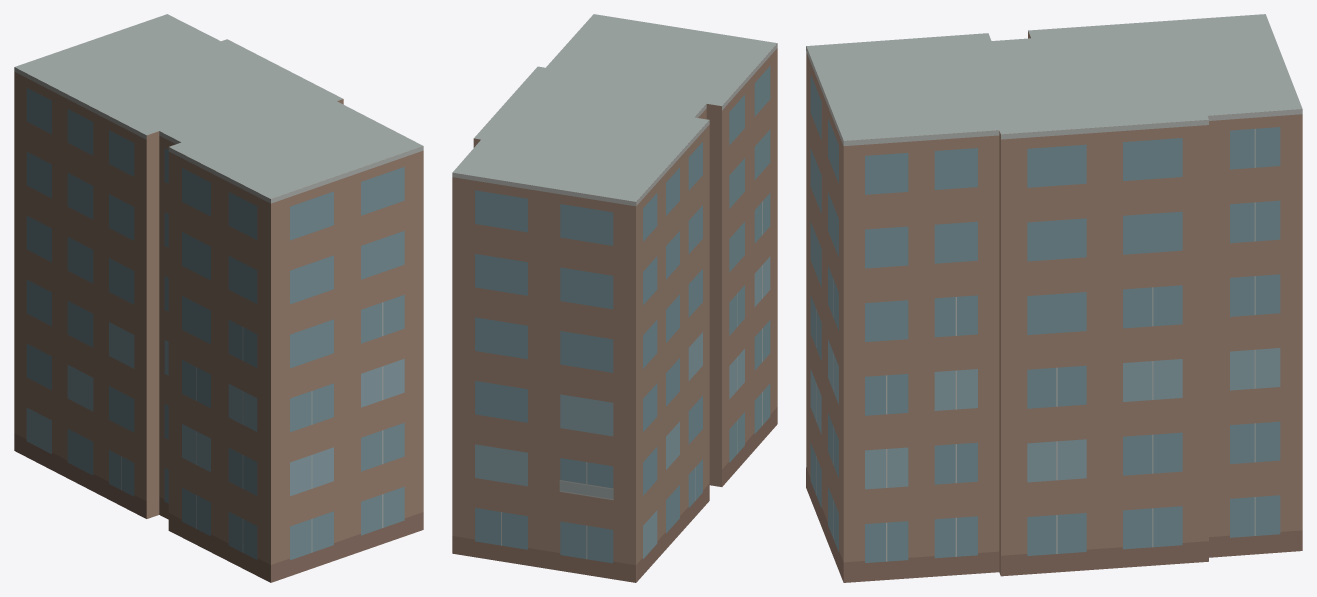
The model's file is survey-upis-32964085.glb.
3 views of the same model, side by side, from view 1: azimuth 30°, elevation 25°; view 2: azimuth 150°, elevation 25°; view 3: azimuth 270°, elevation 25° (orthographic). The views are drawn at different scales.
Parts seen in each view (by area): view 1: survey-upis-32964085.tmp; view 2: survey-upis-32964085.tmp; view 3: survey-upis-32964085.tmp.
Boxes of the visible parts, <box> form: survey-upis-32964085.tmp: <box>14,14,423,582</box>; survey-upis-32964085.tmp: <box>452,14,777,582</box>; survey-upis-32964085.tmp: <box>806,14,1302,582</box>.
Bounding box in the file's own units: 12.8 × 20.75 × 21.14.
